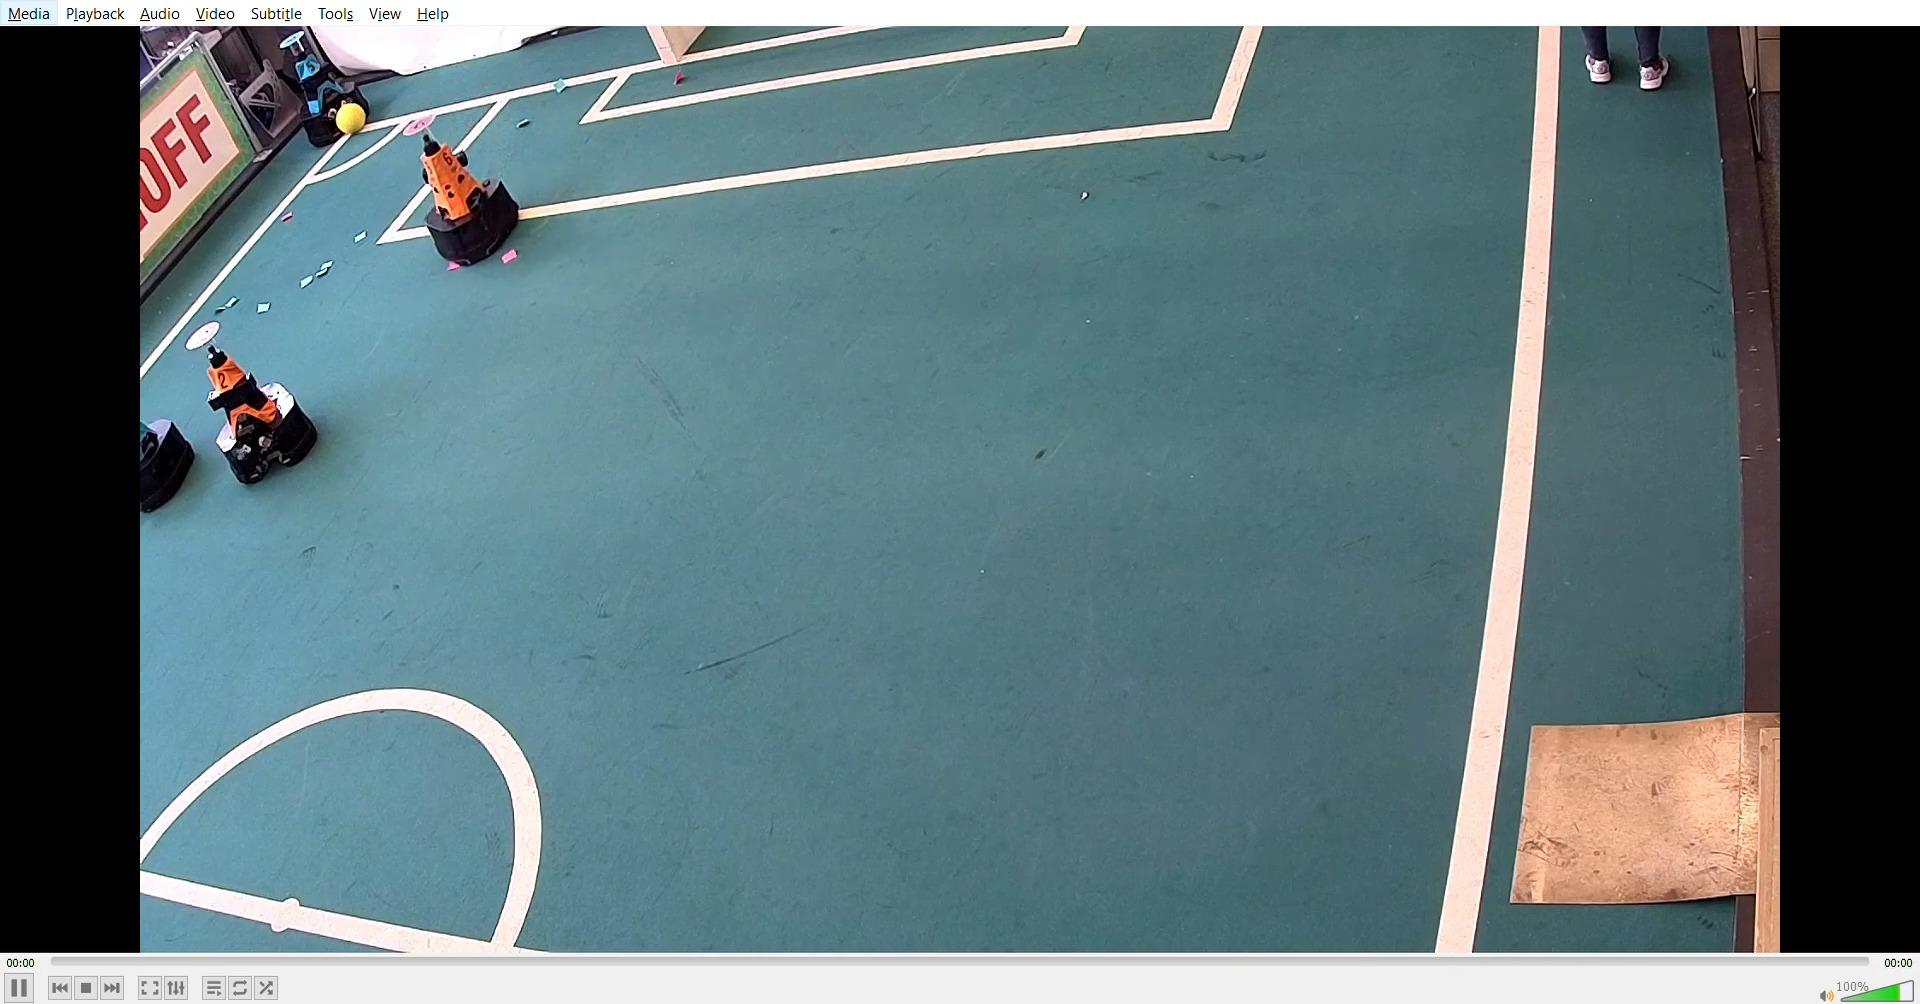Ball: (331, 96, 368, 136)
Team_Blue: (276, 32, 377, 137)
Team_Red: (184, 315, 323, 481), (400, 108, 535, 273)
